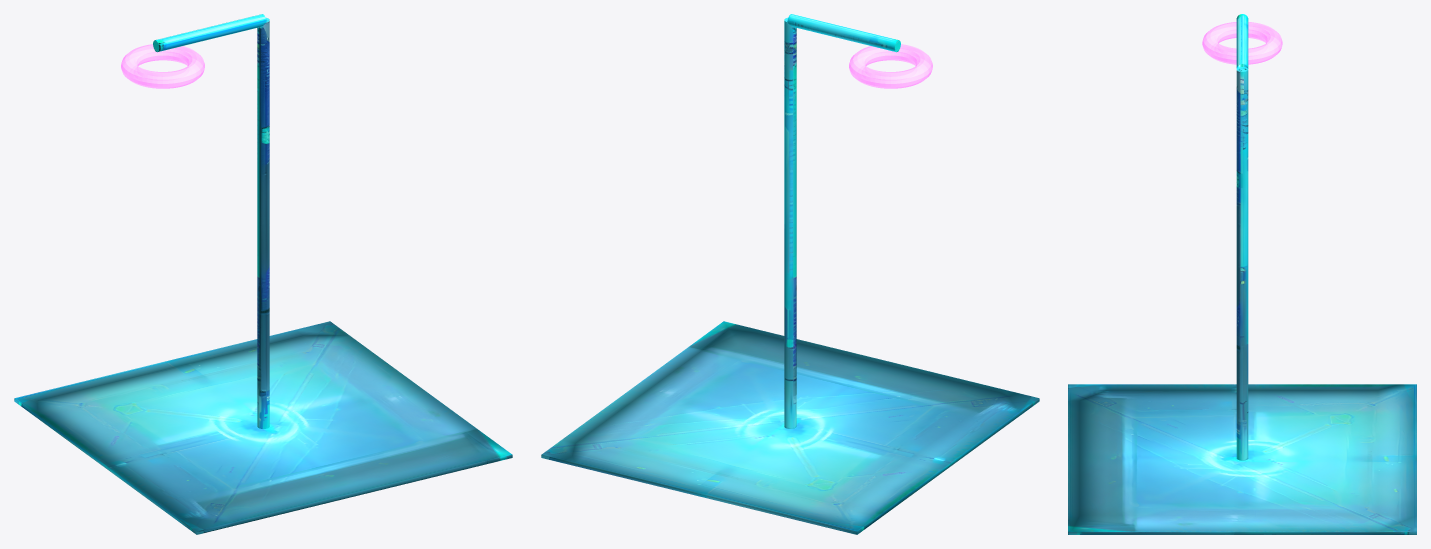
The model's file is residentialBasicFloorLight.glb.
3 views of the same model, side by side, from view 1: azimuth 30°, elevation 25°; view 2: azimuth 150°, elevation 25°; view 3: azimuth 270°, elevation 25° (orthographic). The views are drawn at different scales.
Parts seen in each view (by area): view 1: Mesh_0; view 2: Mesh_0; view 3: Mesh_0.
Boxes of the visible parts, x1,y1,x2,y2 form: Mesh_0: [14, 14, 512, 534]; Mesh_0: [541, 14, 1039, 534]; Mesh_0: [1068, 14, 1416, 534].
Bounding box in the file's own units: 1 × 1.26 × 1.
Materials: 2 (1 with a texture image).
